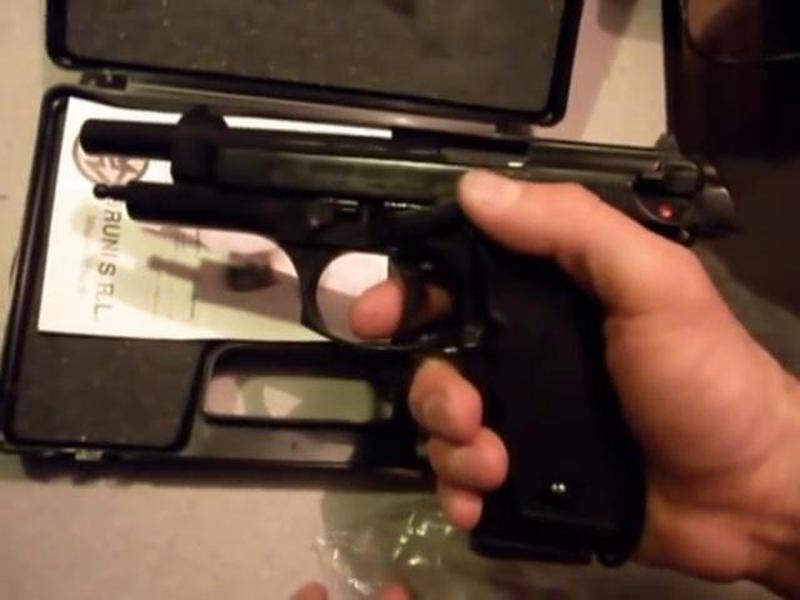Pistola: (67, 100, 741, 576)
